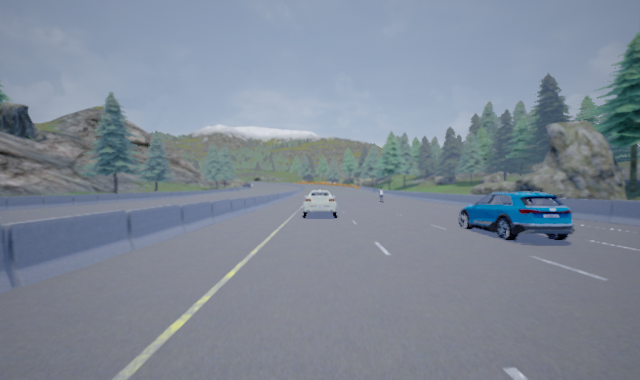vehicle: (458, 190, 573, 240), (301, 189, 338, 218)
